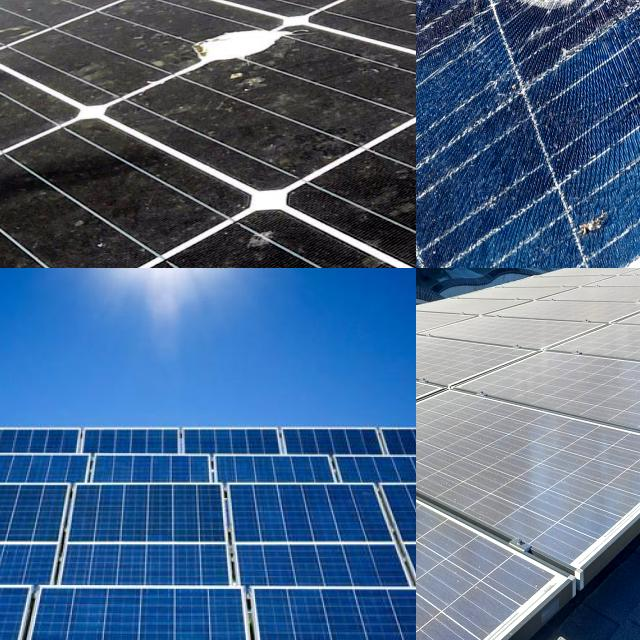bird: (177, 15, 282, 110)
crack: (205, 474, 416, 606), (56, 480, 254, 600), (0, 481, 120, 618), (0, 581, 263, 640), (376, 481, 416, 619)
dust: (424, 408, 594, 518), (416, 511, 546, 640), (496, 289, 568, 394), (573, 283, 640, 361), (416, 347, 471, 433), (416, 514, 451, 640), (416, 385, 458, 487), (416, 320, 486, 376), (586, 371, 640, 430), (416, 461, 448, 496)
